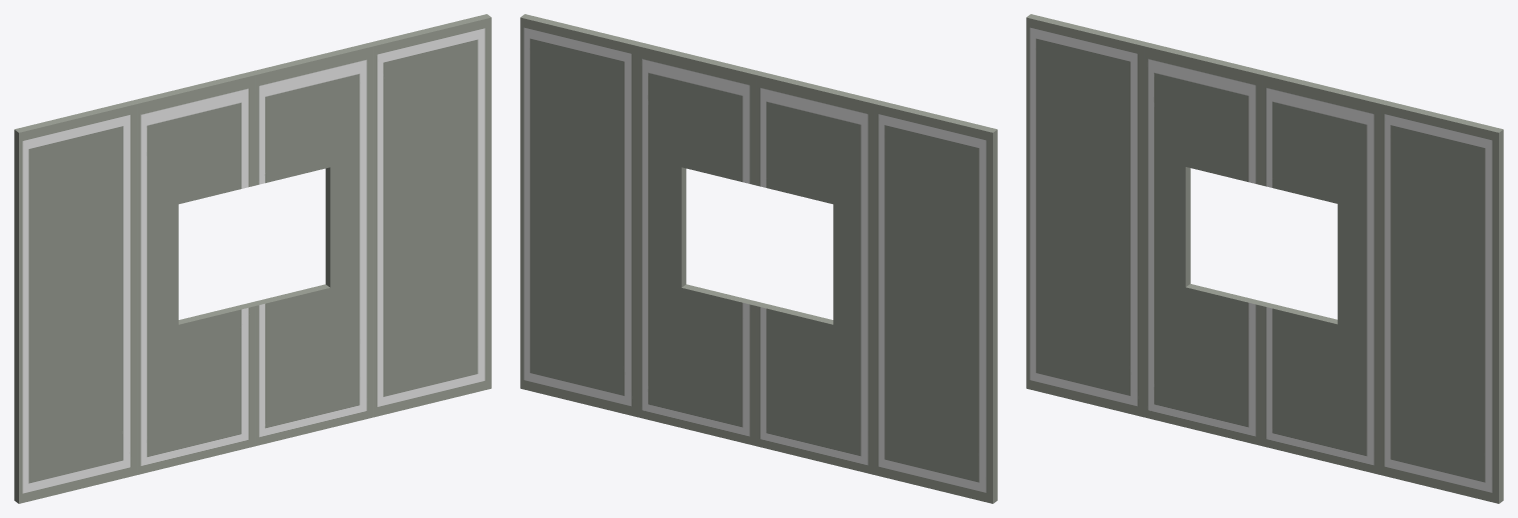
The model's file is Wall_Green_Window.fbx.
3 renders of one model, left to right at view 1: azimuth 30°, elevation 25°; view 2: azimuth 150°, elevation 25°; view 3: azimuth 330°, elevation 25°, orthographic.
Parts seen in each view (by area): view 1: Wall_Green_Window; view 2: Wall_Green_Window; view 3: Wall_Green_Window.
Boxes of the visible parts, x1,y1,x2,y2 form: Wall_Green_Window: [14, 14, 491, 503]; Wall_Green_Window: [520, 14, 997, 503]; Wall_Green_Window: [1026, 14, 1503, 503].
Bounding box in the file's own units: 400 × 300 × 7.
